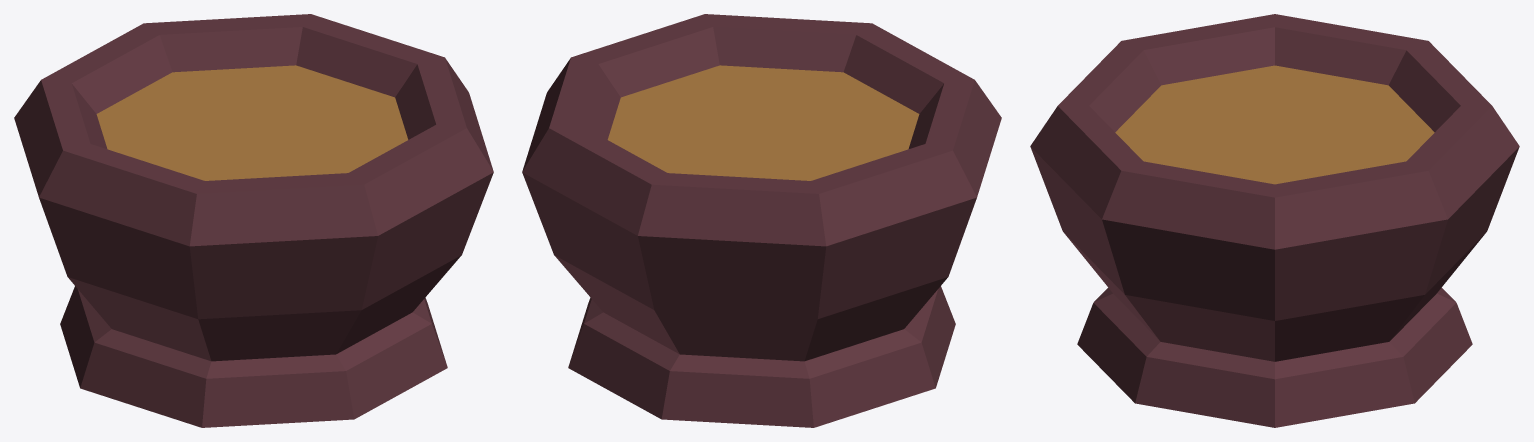
File: scifi-scifi-pot-big-empty.glb
The picture shows the model from 3 angles, left to right: view 1: azimuth 30°, elevation 25°; view 2: azimuth 150°, elevation 25°; view 3: azimuth 270°, elevation 25°; orthographic projection.
Visible parts, largest first — view 1: scifi-pot-big-empty; view 2: scifi-pot-big-empty; view 3: scifi-pot-big-empty.
Part boxes in pixels (box(x1,y1,x2,y2)): scifi-pot-big-empty: box(14, 14, 493, 427); scifi-pot-big-empty: box(522, 14, 1001, 427); scifi-pot-big-empty: box(1030, 14, 1519, 427).
Bounding box in the file's own units: 2.28 × 1.22 × 2.28.
